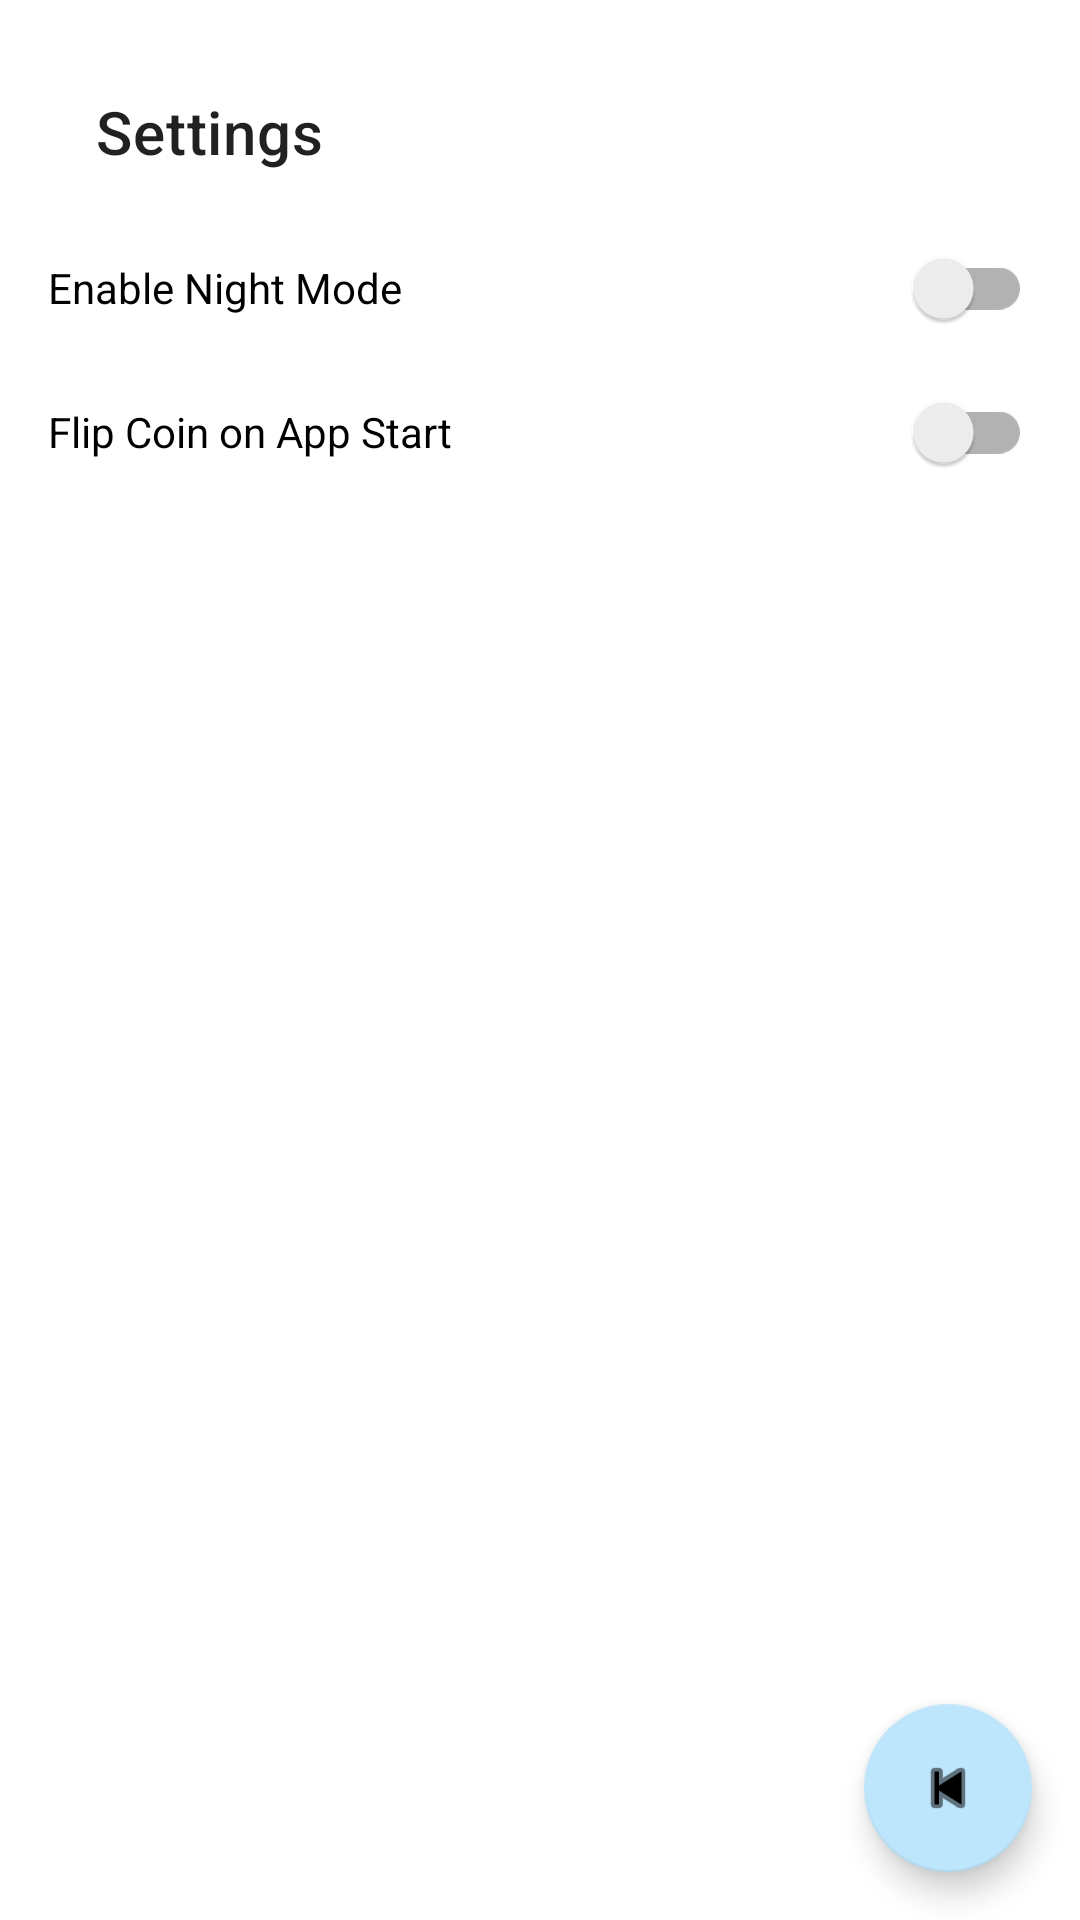

Where to tap for icons on this 1080w x 1920h app screen, as (x=x, y=y):
Back: (x=948, y=1788)
